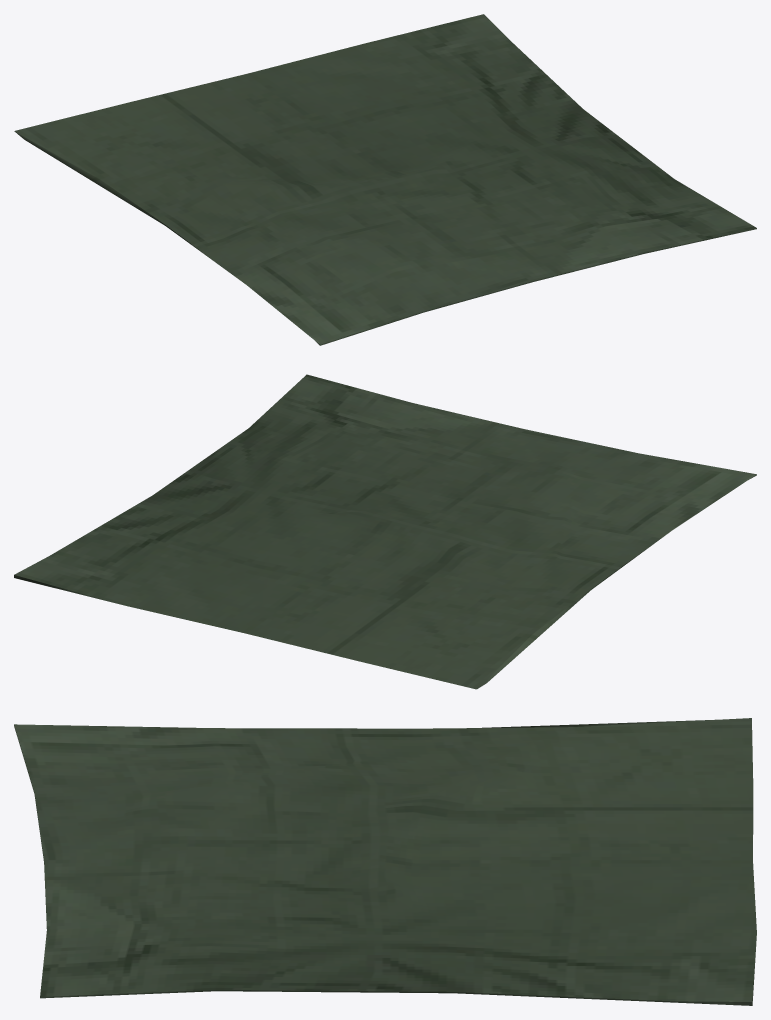
Rendered from Big_LargeTarp.fbx.
The picture shows the model from 3 angles, top to bottom: view 1: azimuth 30°, elevation 25°; view 2: azimuth 150°, elevation 25°; view 3: azimuth 270°, elevation 25°; orthographic projection. The views are drawn at different scales.
Parts seen in each view (by area): view 1: Sheet; view 2: Sheet; view 3: Sheet.
Boxes of the visible parts, x1,y1,x2,y2 form: Sheet: (14,14,756,345); Sheet: (14,374,756,689); Sheet: (14,718,756,1005).
Size of the model in its own units: 22.35 by 0.3504 by 24.49.
